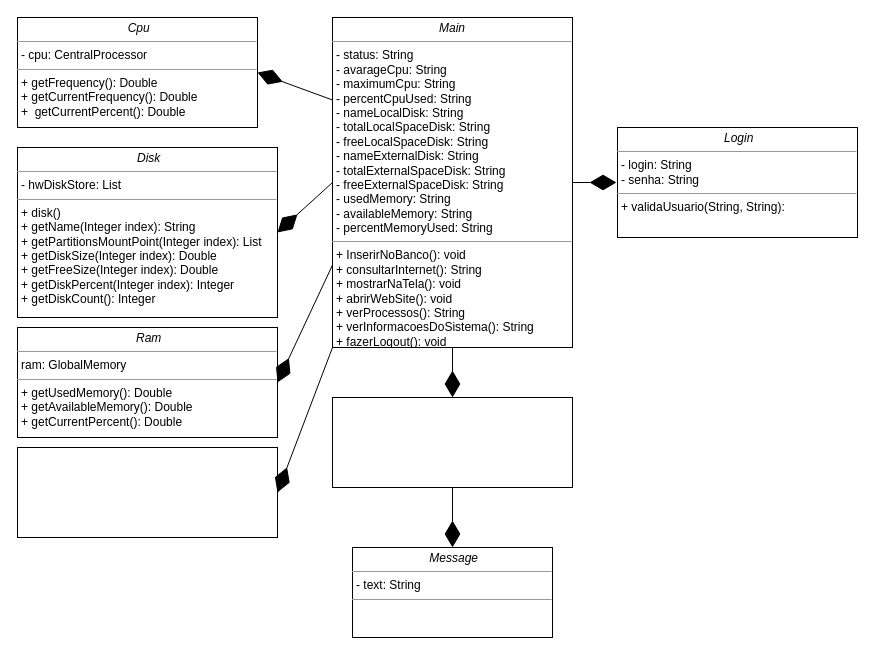
The diagram is 875 pixels wide and 655 high, and some of its shapes have lost their labels. Here are the shapes that lost their labels. From the top down, the box of each, then its label:
(332, 396, 572, 488): SendMessage - slackWebUrl: String + sendMessage(Message message): void
(16, 446, 278, 538): FormatUnit + toGigabyte(Long bytes): Double + toGigahertz(Long hertz): Double
